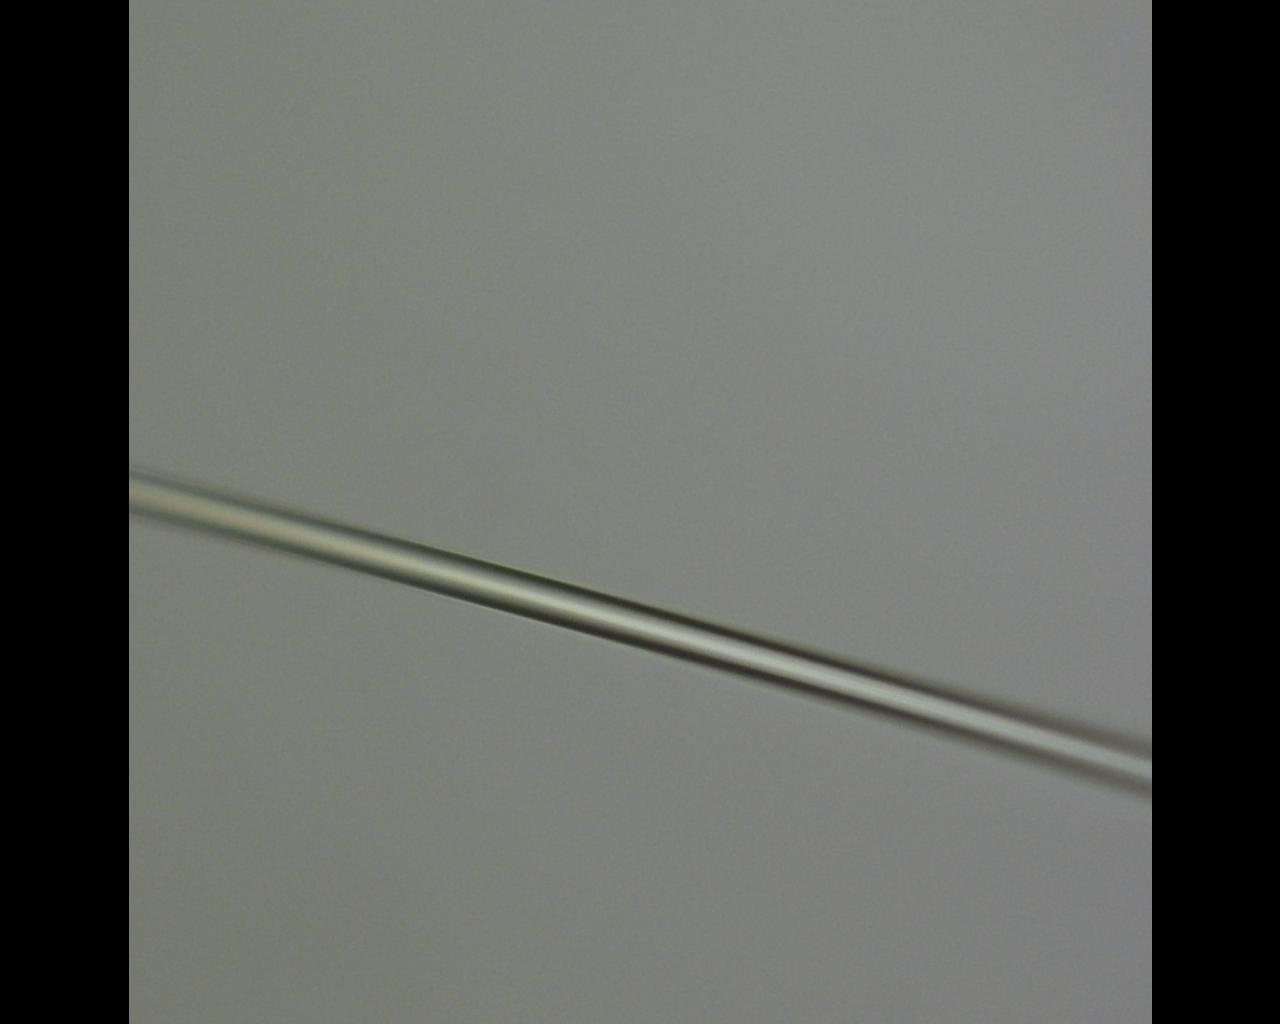fiber: (66, 645, 218, 1024), (501, 0, 588, 645), (842, 645, 956, 1024)
